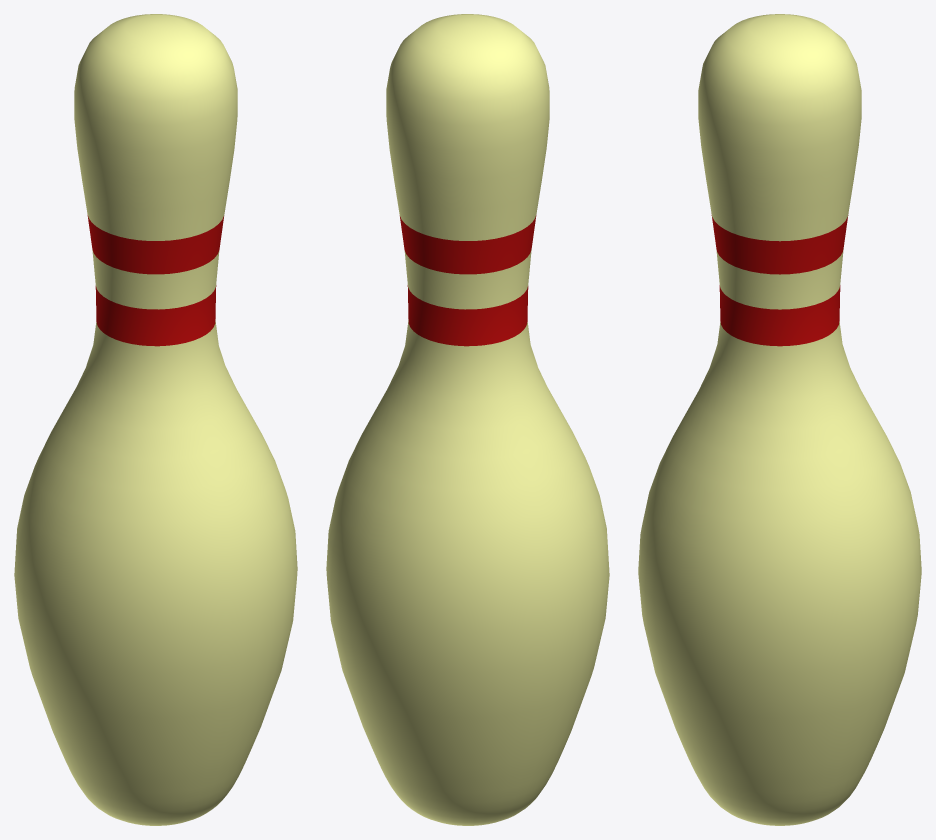
The model's file is Bowling.obj.
3 views of the same model, side by side, from view 1: azimuth 30°, elevation 25°; view 2: azimuth 150°, elevation 25°; view 3: azimuth 270°, elevation 25° (orthographic).
Parts seen in each view (by area): view 1: Pin1; view 2: Pin1; view 3: Pin1.
Boxes of the visible parts, left/top/right/bottom form: Pin1: left=14, top=14, right=297, bottom=825; Pin1: left=326, top=14, right=609, bottom=825; Pin1: left=638, top=14, right=921, bottom=825.
Bounding box in the file's own units: 1.24 × 3.8 × 1.24.
